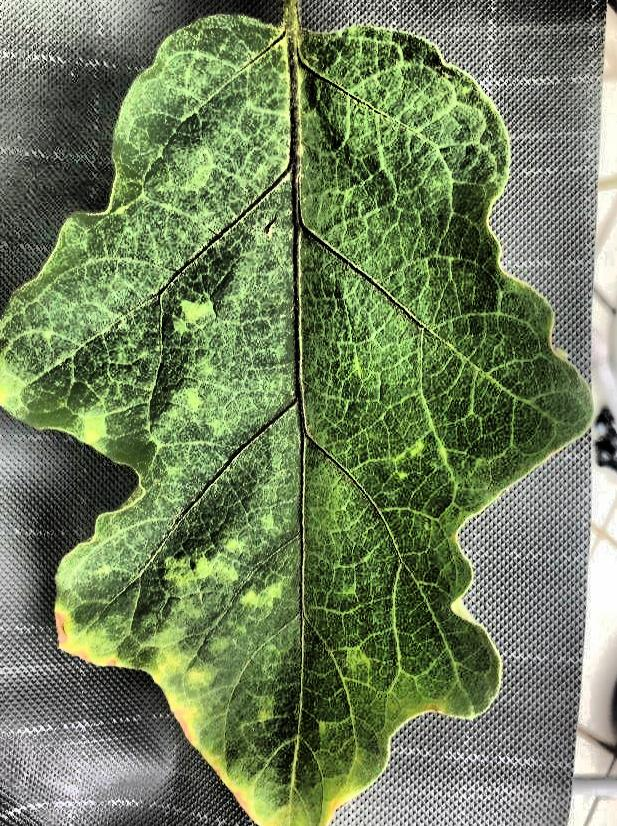Non-critical Stress: (1, 0, 617, 826)
